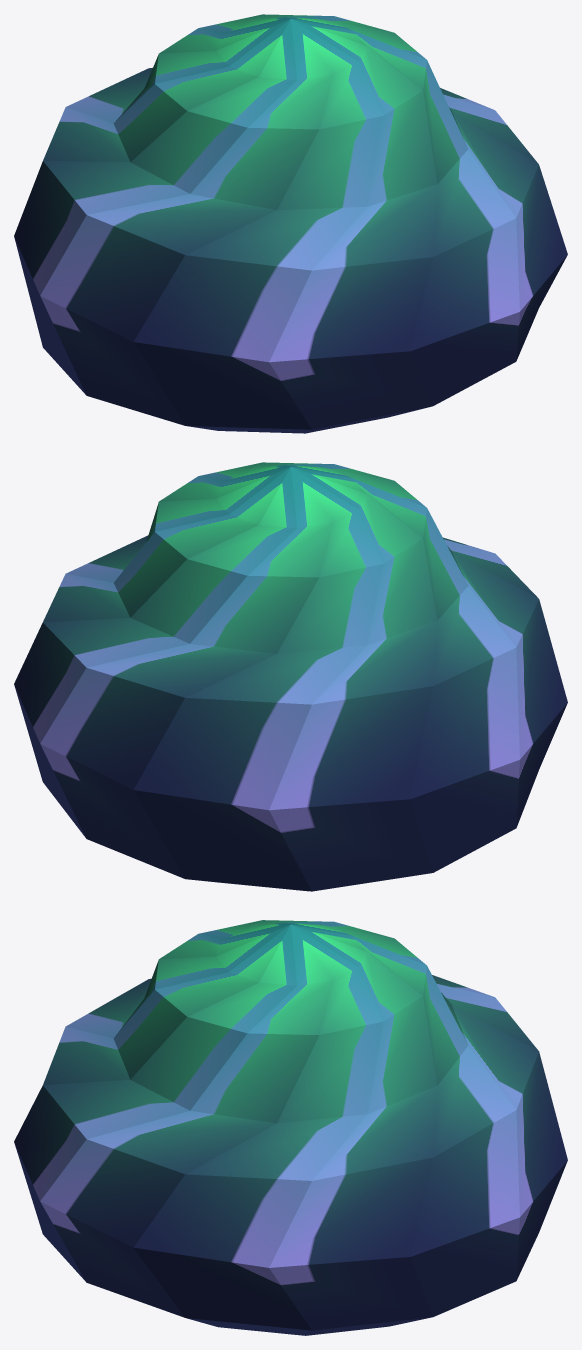
Rendered from SK_Snail_02.fbx.
3 renders of one model, top to bottom at view 1: azimuth 30°, elevation 25°; view 2: azimuth 150°, elevation 25°; view 3: azimuth 270°, elevation 25°, orthographic.
Parts seen in each view (by area): view 1: Skal; view 2: Skal; view 3: Skal.
Boxes of the visible parts, box(x1,y1,x2,y2) form: Skal: box(14, 14, 567, 433); Skal: box(14, 462, 567, 891); Skal: box(14, 920, 567, 1335).
Size of the model in its own units: 77.33 by 54.22 by 77.33.
